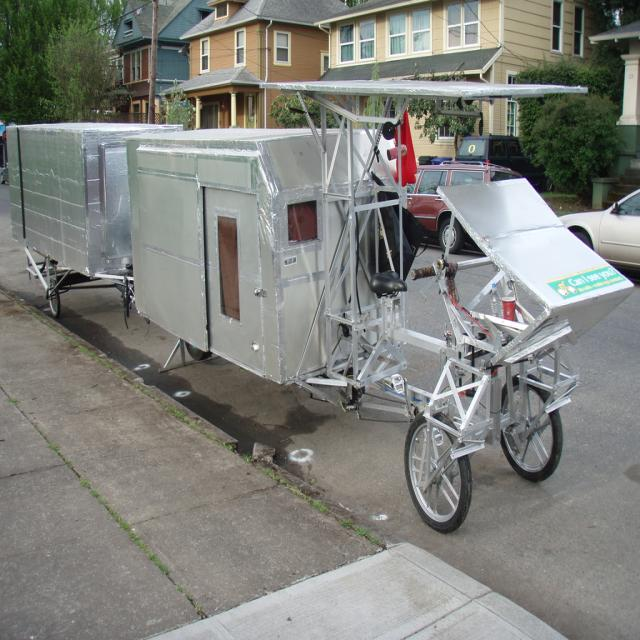car: (406, 153, 517, 255)
